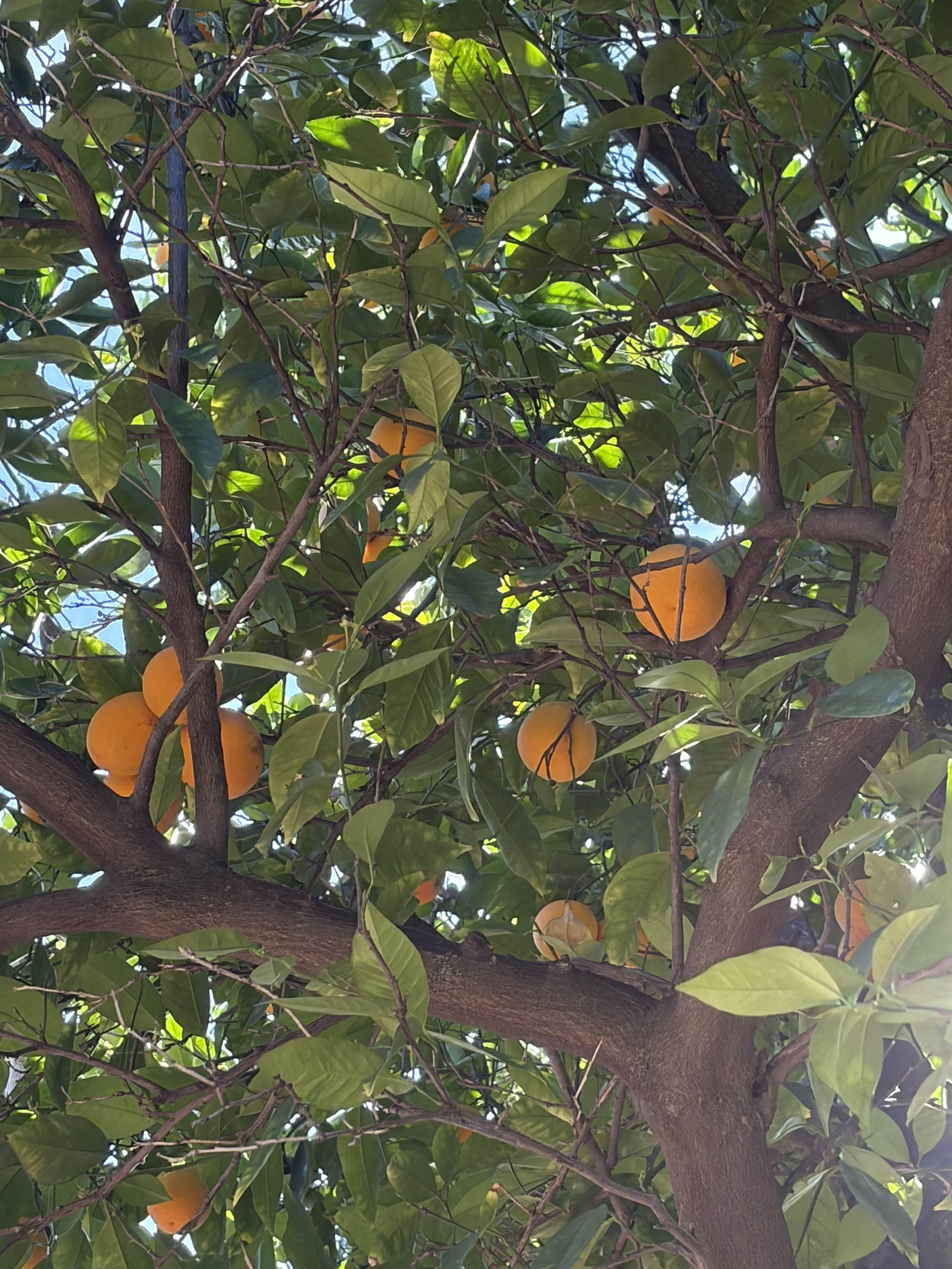orange: (629, 544, 727, 641), (180, 706, 265, 801), (517, 702, 597, 783), (142, 647, 224, 725), (86, 692, 157, 778), (369, 408, 437, 480), (103, 774, 180, 834), (147, 1167, 213, 1234), (533, 900, 598, 961), (318, 492, 381, 545), (595, 919, 662, 968), (418, 211, 485, 248), (834, 879, 868, 932), (837, 915, 872, 963), (322, 619, 370, 651), (363, 530, 399, 564), (20, 1232, 48, 1269), (413, 880, 439, 906), (194, 12, 214, 41), (19, 800, 43, 824), (156, 242, 169, 267), (456, 1128, 474, 1145)
